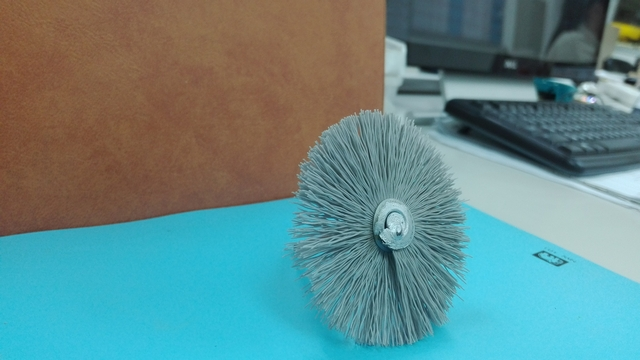TOOL: (160, 86, 519, 355), (256, 93, 472, 359)
